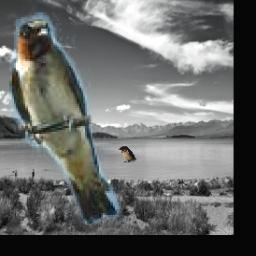Swallow: (9, 12, 121, 224), (118, 145, 136, 162)
